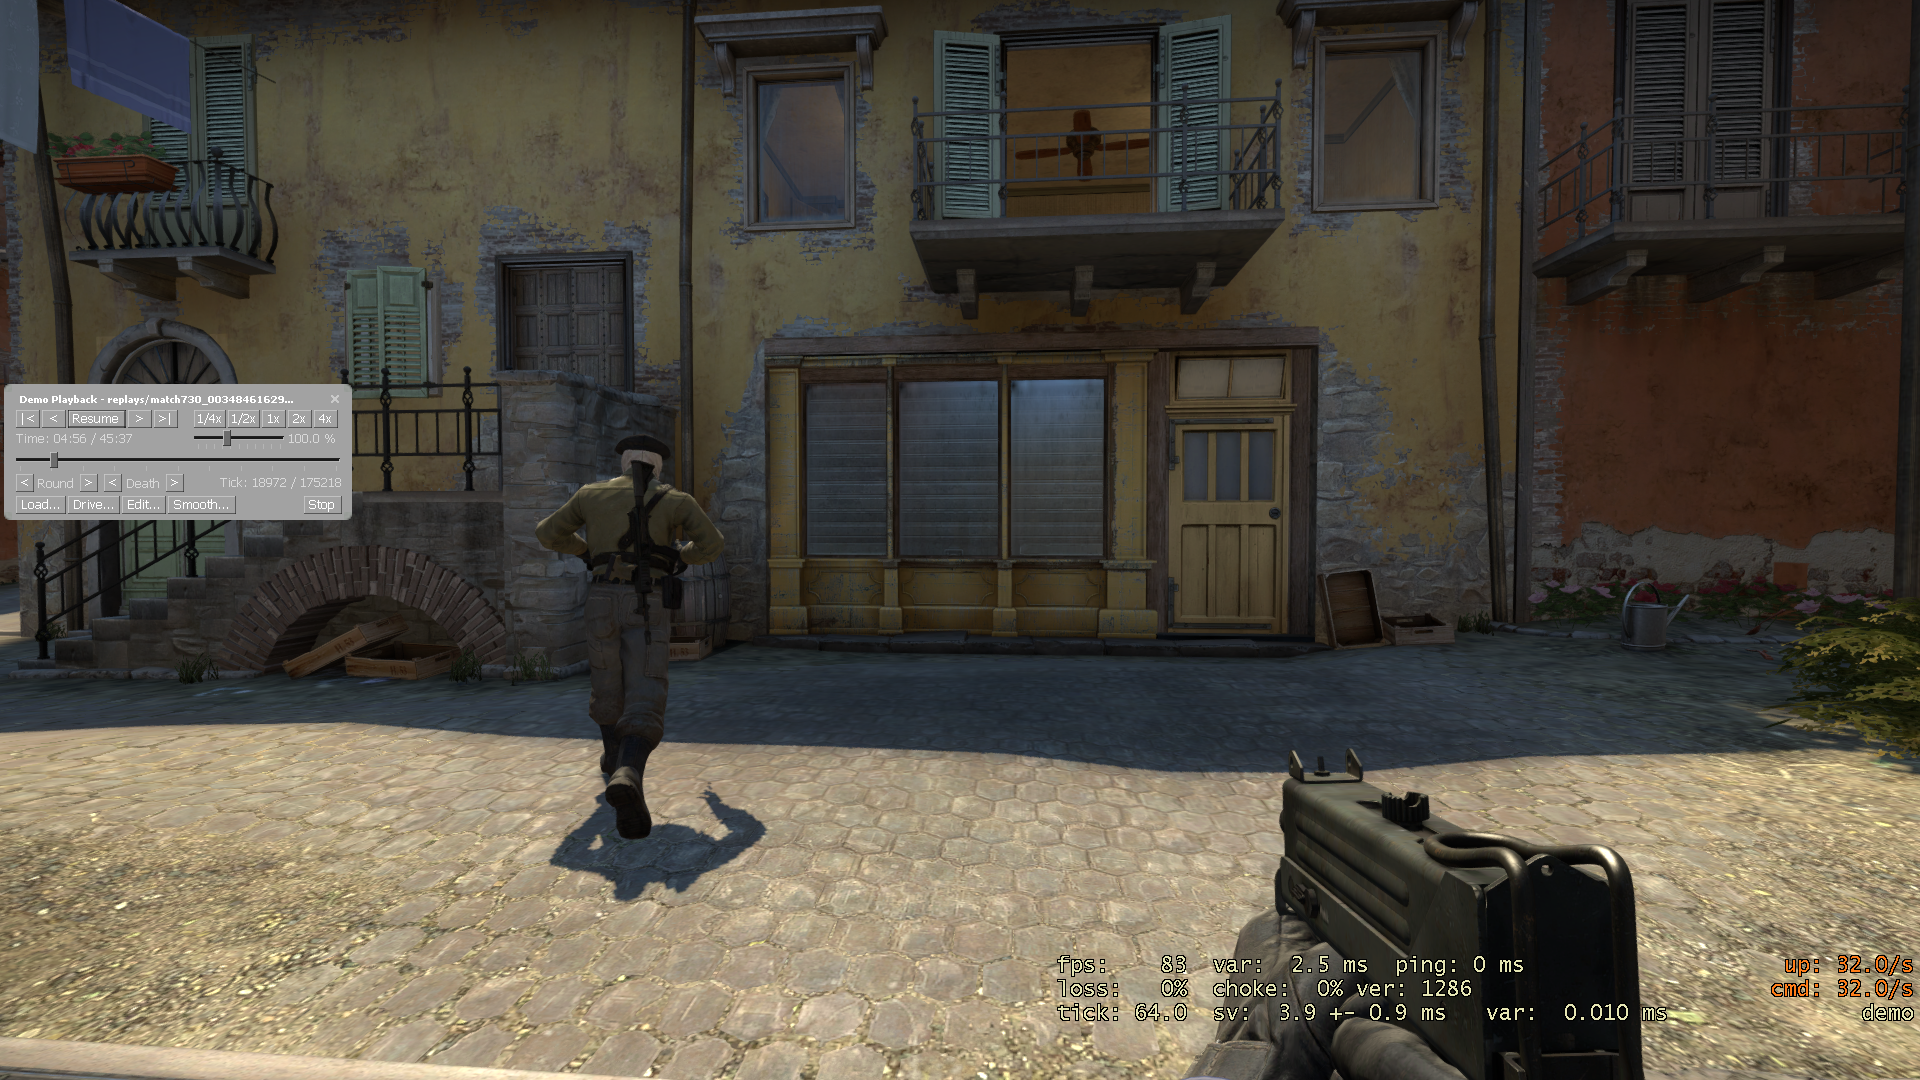t: (531, 436, 727, 841)
